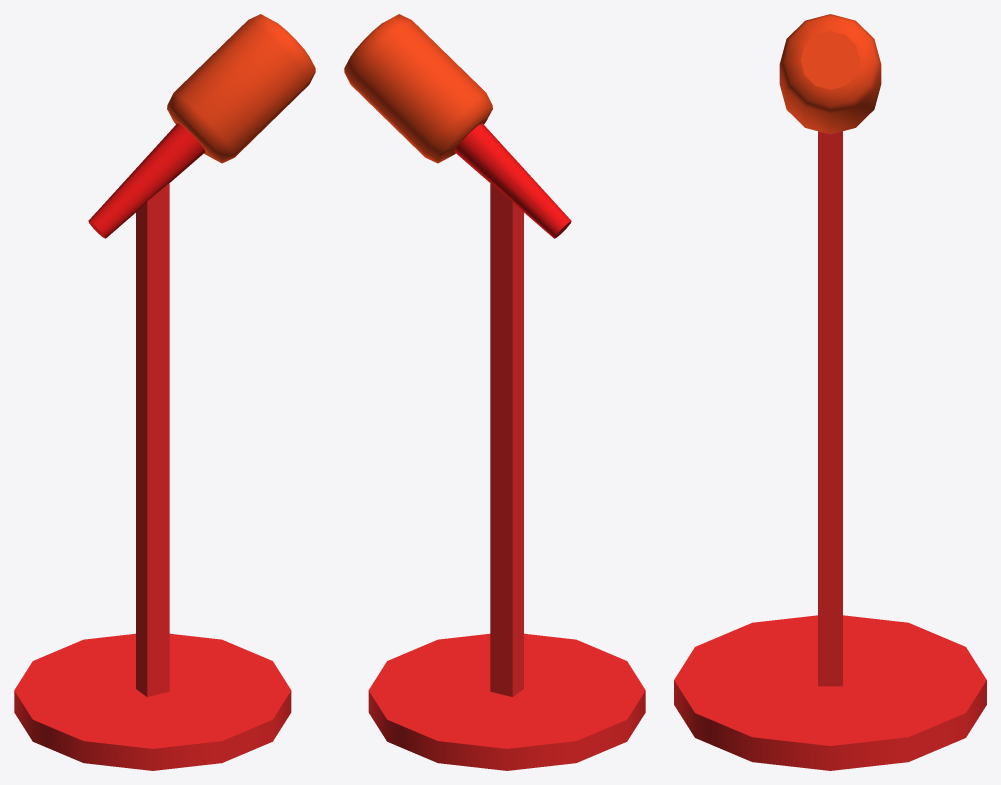
The model's file is micro.FBX.
3 views of the same model, side by side, from view 1: azimuth 30°, elevation 25°; view 2: azimuth 150°, elevation 25°; view 3: azimuth 270°, elevation 25° (orthographic). The views are drawn at different scales.
Parts seen in each view (by area): view 1: Cylinder123; view 2: Cylinder123; view 3: Cylinder123.
Boxes of the visible parts, x1,y1,x2,y2 form: Cylinder123: (14, 14, 315, 770); Cylinder123: (344, 14, 645, 770); Cylinder123: (674, 14, 986, 770).
Size of the model in its own units: 0.5505 by 1.27 by 0.4797.
